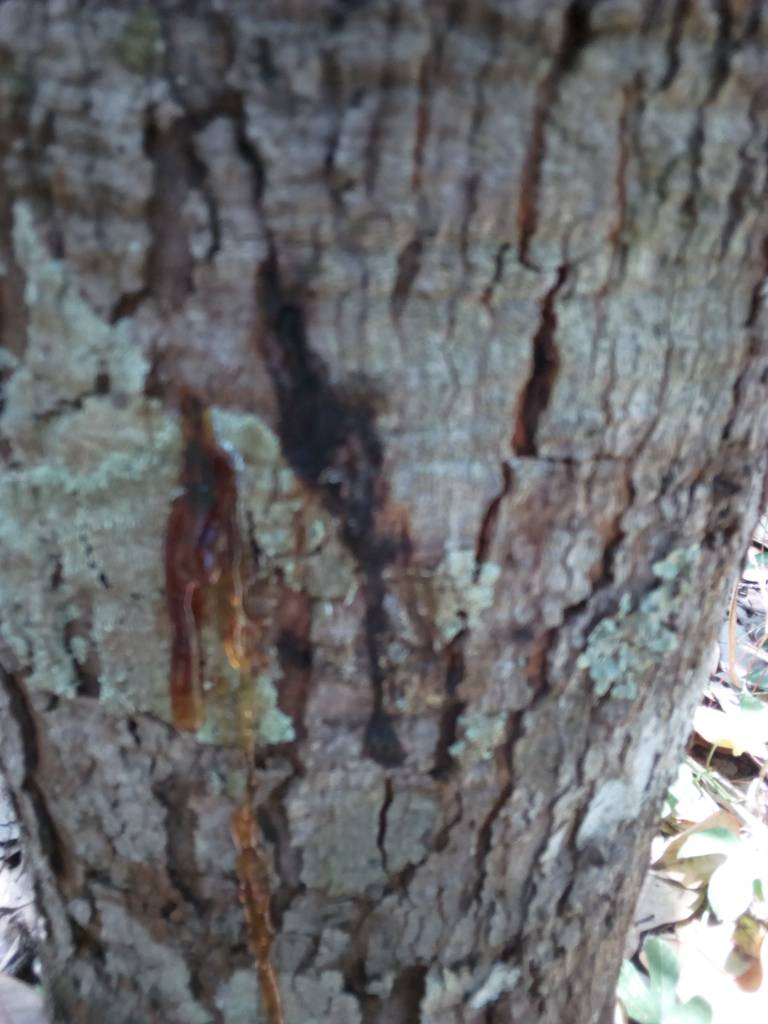Gommose: (155, 410, 322, 1016)
